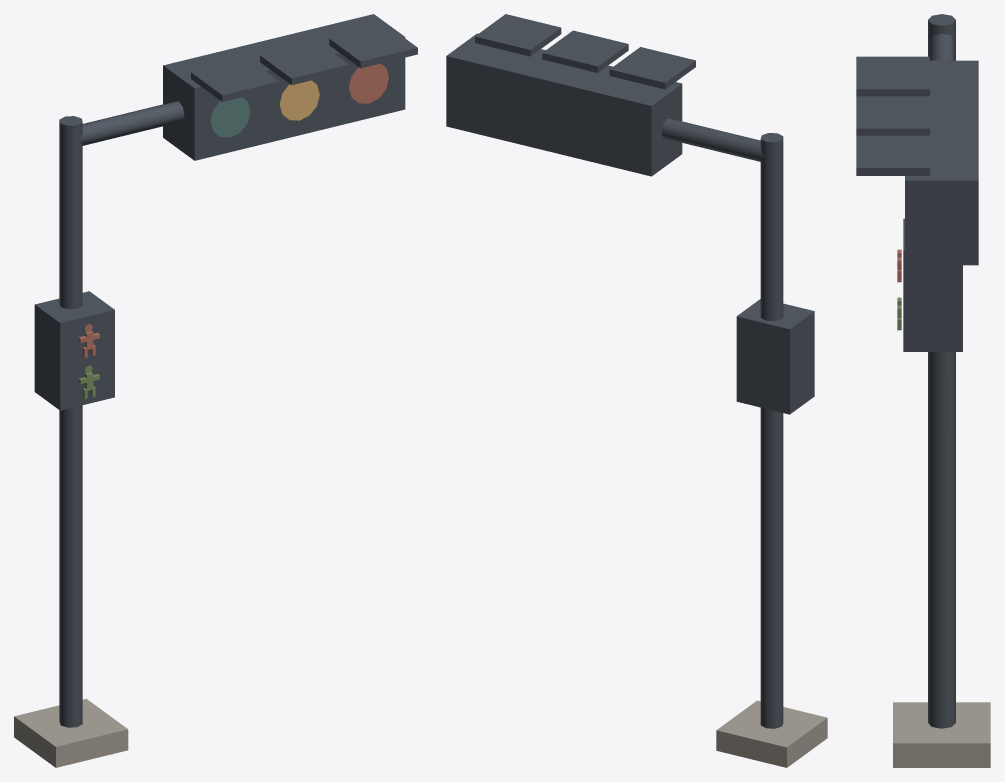
Rendered from komachi-traffic-light.glb.
The picture shows the model from 3 angles, left to right: view 1: azimuth 30°, elevation 25°; view 2: azimuth 150°, elevation 25°; view 3: azimuth 270°, elevation 25°; orthographic projection. The views are drawn at different scales.
Parts seen in each view (by area): view 1: Signal_Post, Pedestrian_Signal, Signal_Visor_2, Signal_Visor_1, Green_Lens, Amber_Lens, Red_Lens; view 2: Signal_Post, Pedestrian_Signal, Signal_Visor_1, Signal_Visor_2; view 3: Signal_Post, Pedestrian_Signal, Signal_Visor_2, Signal_Visor_1.
Boxes of the visible parts, x1=… form: Signal_Post: x1=14, y1=14, x2=405, y2=767; Pedestrian_Signal: x1=34, y1=291, x2=114, y2=410; Signal_Visor_2: x1=329, y1=24, x2=417, y2=68; Signal_Visor_1: x1=260, y1=41, x2=348, y2=85; Green_Lens: x1=210, y1=97, x2=250, y2=137; Amber_Lens: x1=279, y1=80, x2=319, y2=120; Red_Lens: x1=349, y1=63, x2=388, y2=103; Signal_Post: x1=446, y1=33, x2=827, y2=767; Pedestrian_Signal: x1=736, y1=299, x2=814, y2=414; Signal_Visor_1: x1=542, y1=30, x2=628, y2=72; Signal_Visor_2: x1=475, y1=14, x2=561, y2=56; Signal_Post: x1=856, y1=14, x2=990, y2=767; Pedestrian_Signal: x1=897, y1=218, x2=962, y2=351; Signal_Visor_2: x1=856, y1=135, x2=929, y2=175; Signal_Visor_1: x1=856, y1=96, x2=929, y2=135.
Size of the model in its own units: 0.441 by 0.769 by 0.124.
